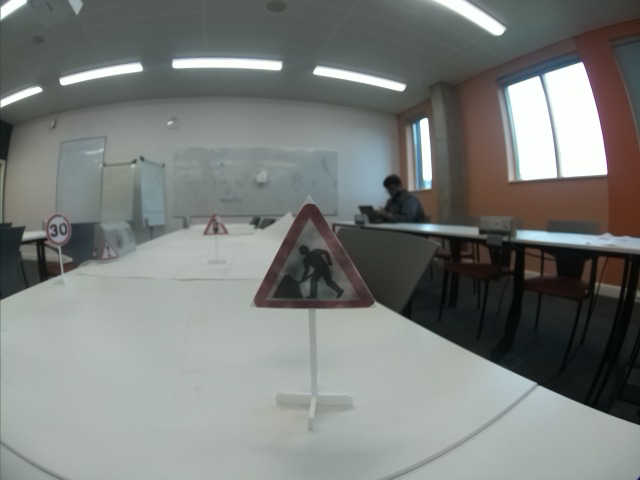30mph: (44, 213, 72, 246)
Roadworks: (253, 202, 375, 307)
Traffic lights: (204, 213, 230, 234)
Warning: (101, 240, 120, 260)
